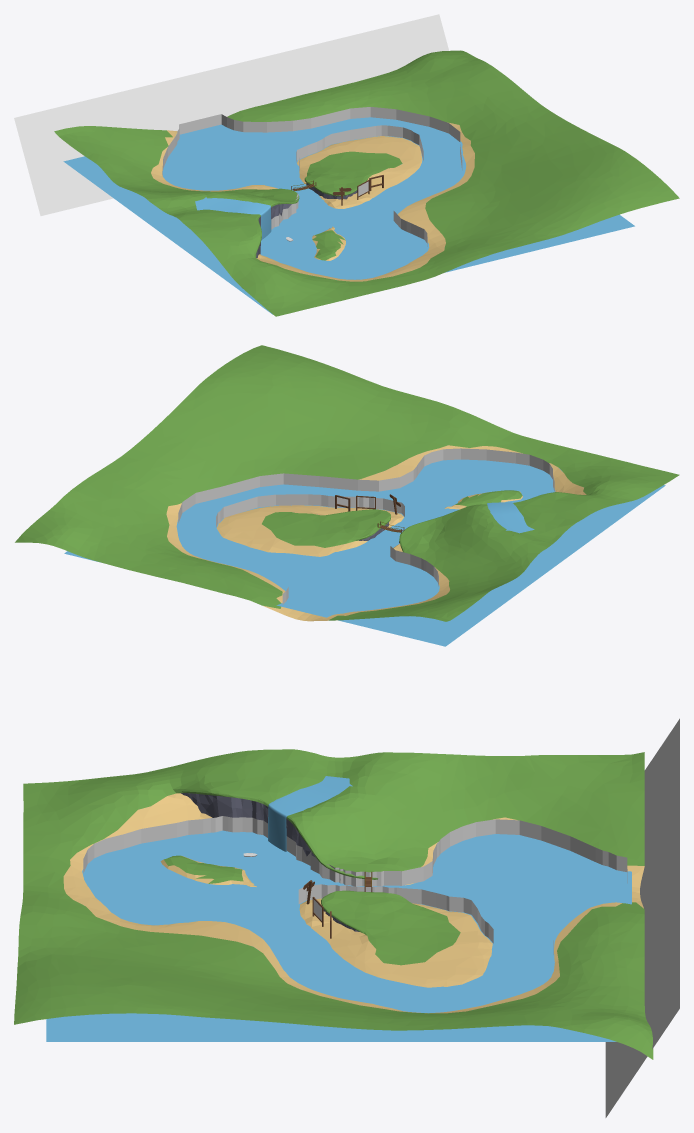
The model's file is river_environment.gltf.
The picture shows the model from 3 angles, top to bottom: view 1: azimuth 30°, elevation 25°; view 2: azimuth 150°, elevation 25°; view 3: azimuth 270°, elevation 25°; orthographic projection. The views are drawn at different scales.
Parts seen in each view (by area): view 1: floor, lake, water_block, barrier, waterfall; view 2: floor, lake, barrier, waterfall; view 3: floor, lake, water_block, barrier, waterfall, cliff_1.
Part boxes in pixels (x1,y1,x2,y2): floor: (54, 50, 679, 316); lake: (63, 117, 634, 314); water_block: (14, 14, 448, 215); barrier: (162, 107, 462, 246); waterfall: (195, 197, 271, 239); floor: (15, 345, 679, 621); lake: (64, 459, 665, 646); barrier: (178, 448, 554, 604); waterfall: (487, 502, 534, 533); floor: (14, 749, 653, 1059); lake: (46, 830, 631, 1041); water_block: (605, 718, 679, 1117); barrier: (83, 816, 627, 954); waterfall: (268, 776, 352, 851); cliff_1: (181, 793, 340, 880).
Size of the model in its own units: 299 by 51.95 by 284.
